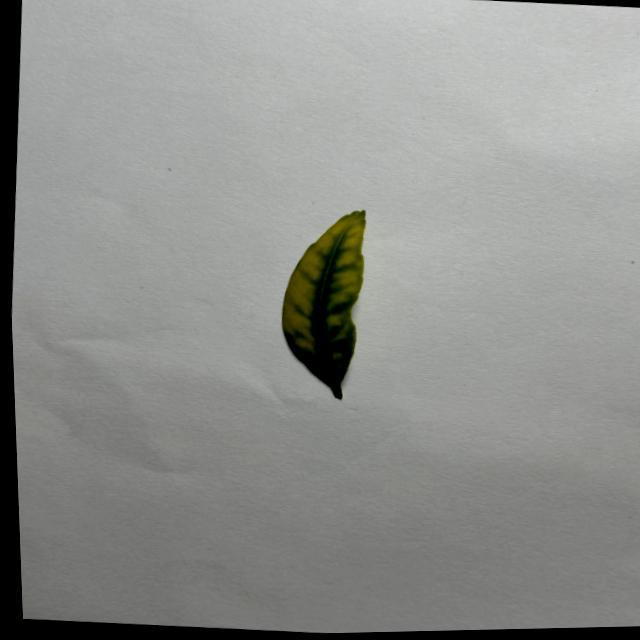greening: (282, 210, 365, 399)
